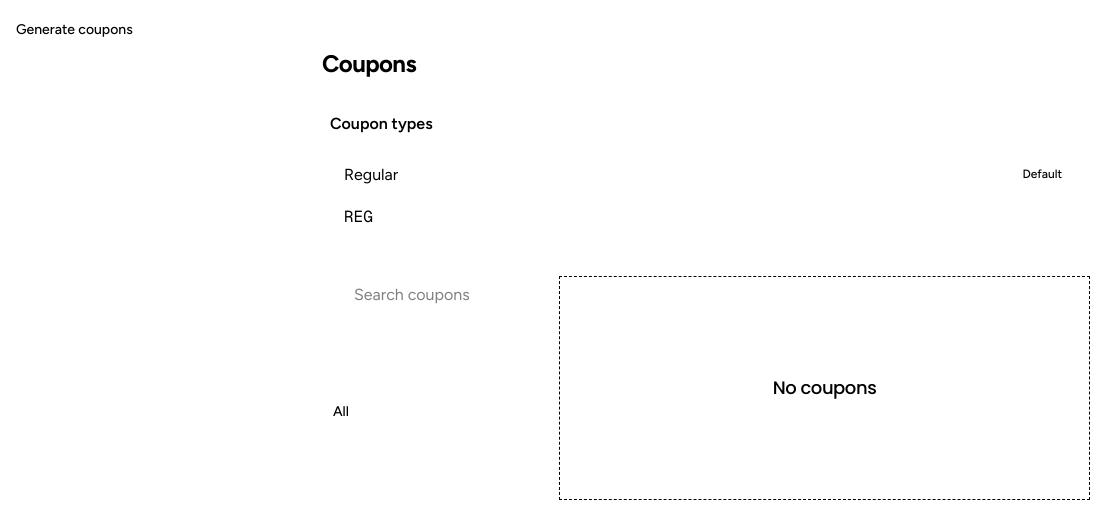
debounces remote search and reuses fresh results after clearing it
Check: the text "No coupons" is shown, box [773, 374, 876, 402]
Type "r" into the search field labelled "Search coupons" at (444, 294), box [344, 276, 543, 312]
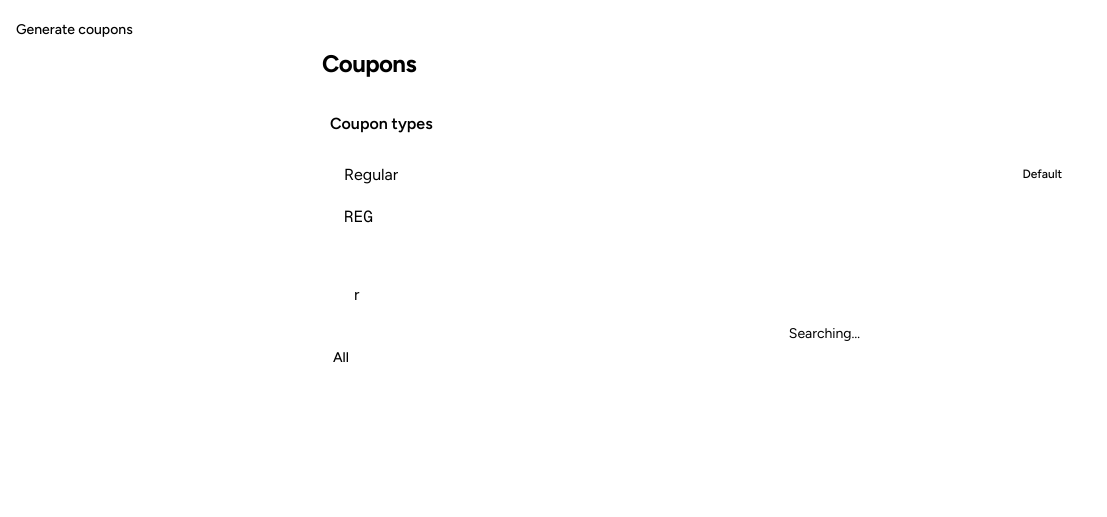
Replace the text in the search field named "Search coupons" with "re" at (444, 294), box [344, 276, 543, 312]
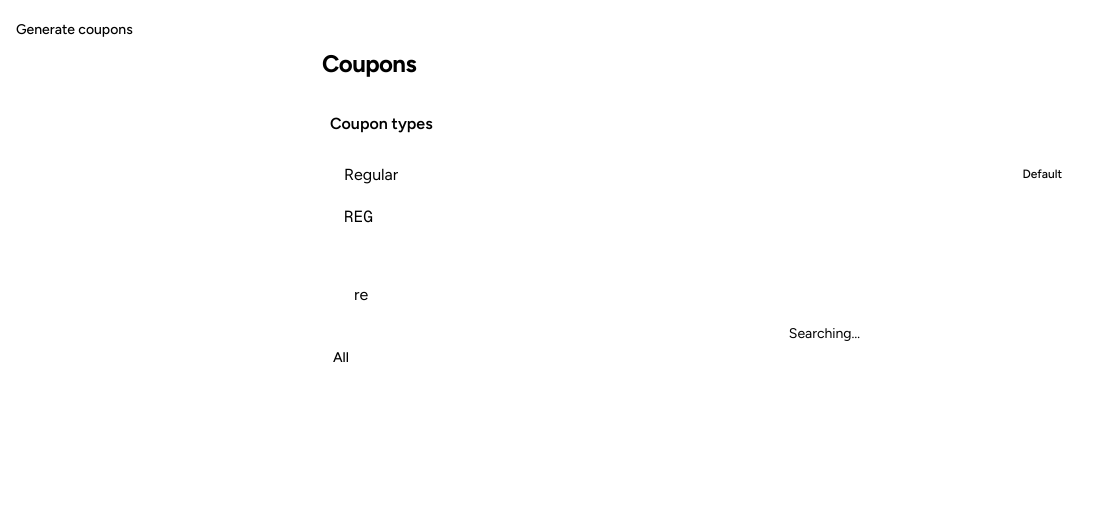
Replace the text in the search field named "Search coupons" with "revision" at (444, 294), box [344, 276, 543, 312]
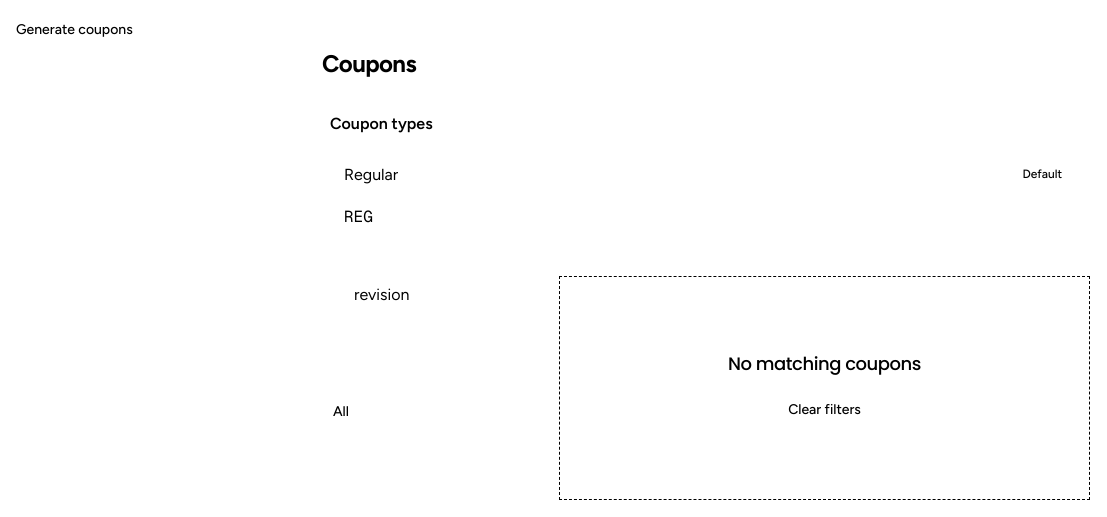
Check: the text "No matching coupons" is shown, box [728, 350, 921, 378]
